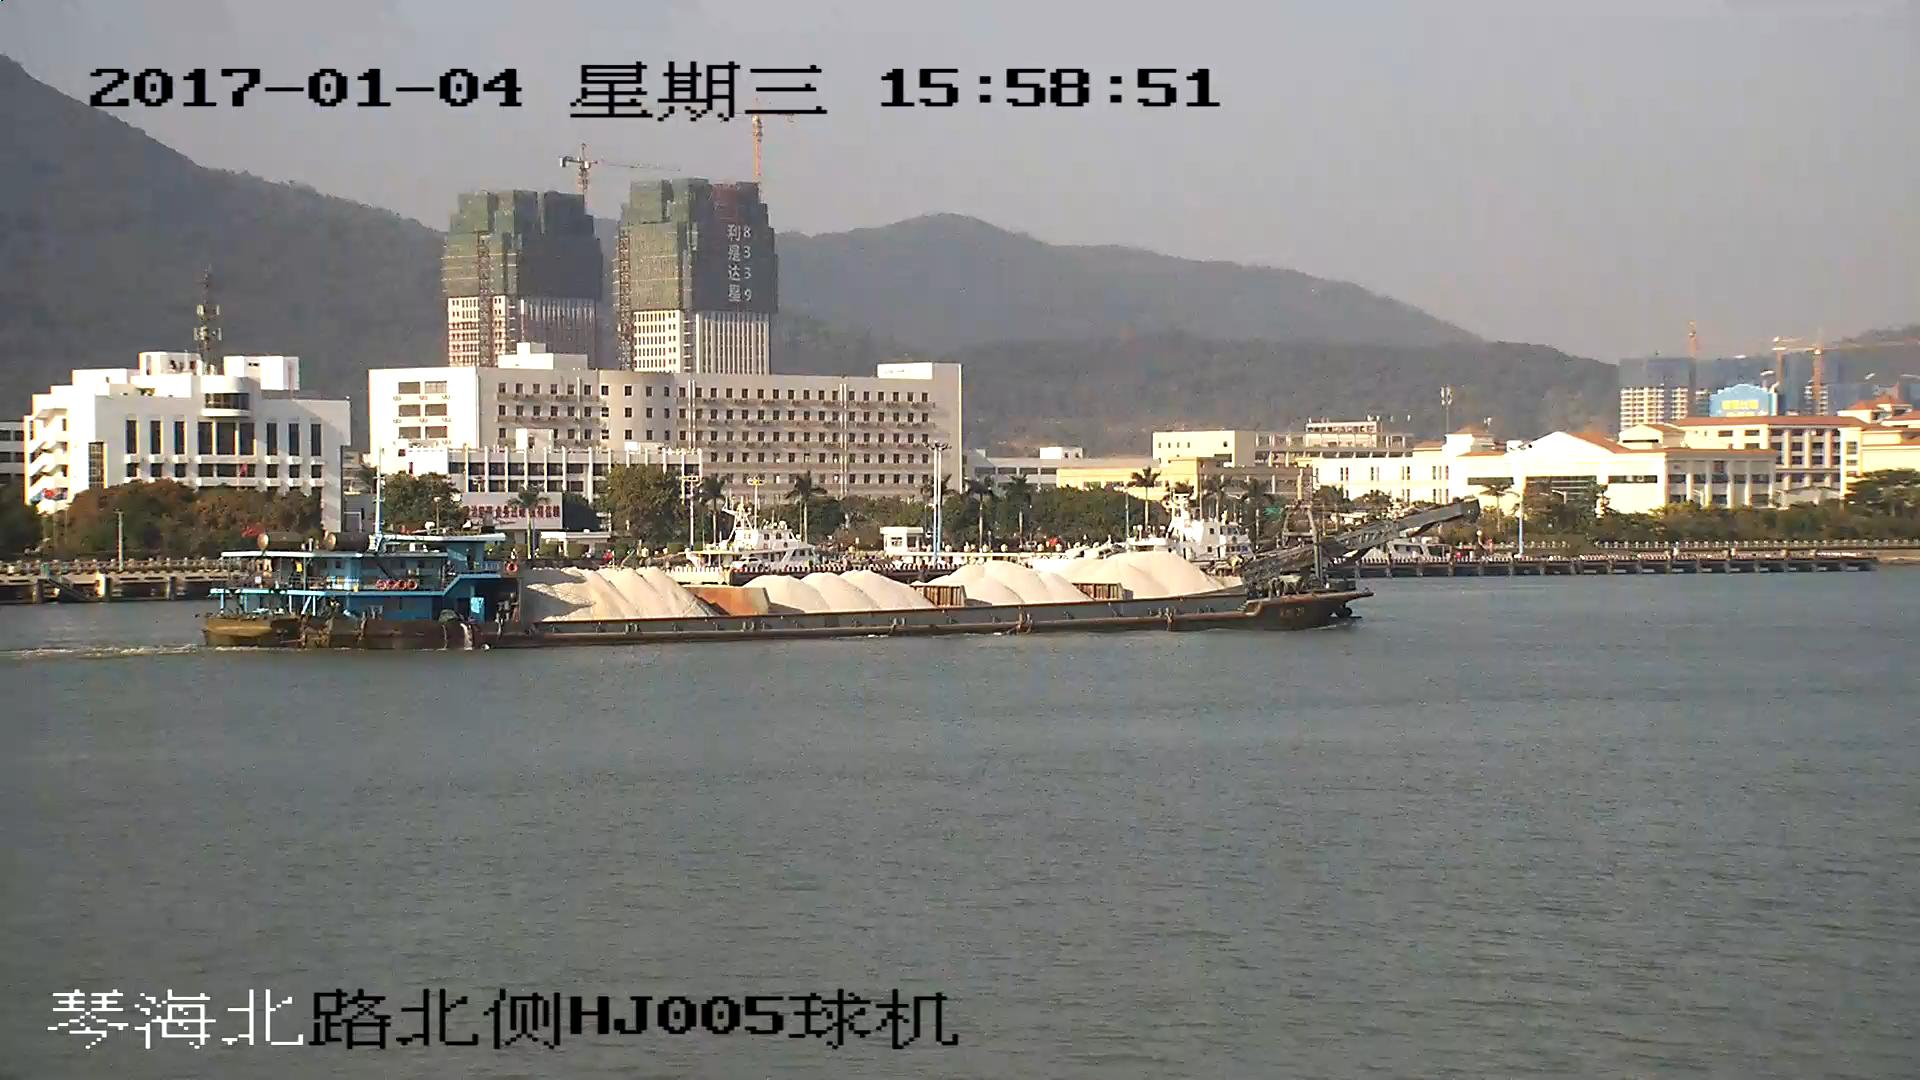ore carrier: (204, 504, 1467, 654)
